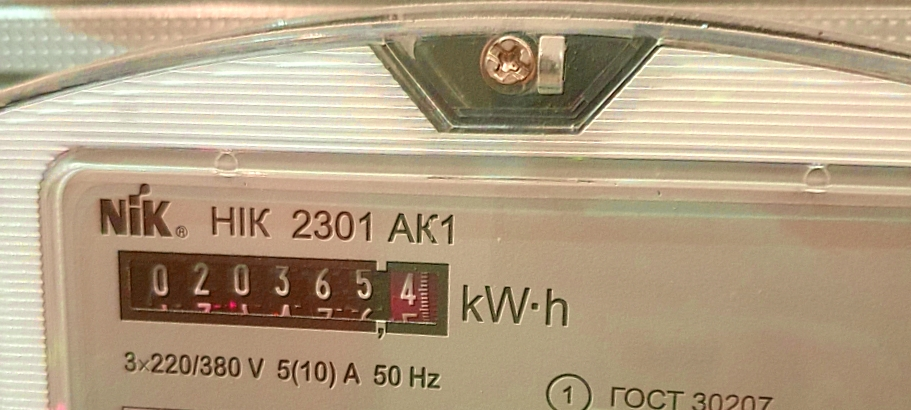0: (149, 262, 172, 298), (231, 261, 253, 298)
2: (188, 260, 213, 298)
3: (272, 262, 293, 298)
4: (398, 270, 419, 306)
5: (352, 267, 375, 301)
6: (312, 265, 334, 302)
screen: (96, 224, 472, 358)
